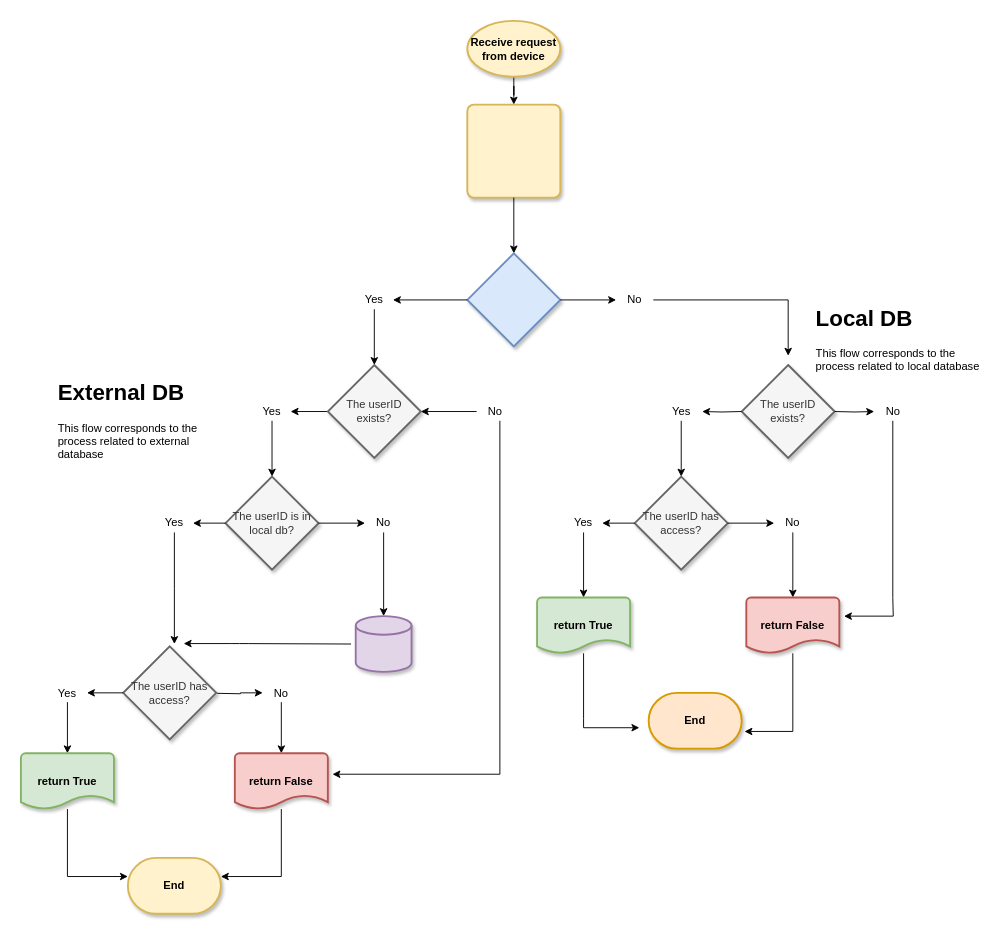
The diagram is 1003 pixels wide and 937 high, and some of its shapes have lost their labels. The shapes that lost their labels are listed below. From the top down, each one's centre as x and y in pixels, then its label:
At pixel 514 152: "Perform a HTTP Request (GET) to check if the userID exists".
At pixel 514 300: "Connected to external db".
At pixel 384 645: "Storage it in local db".
